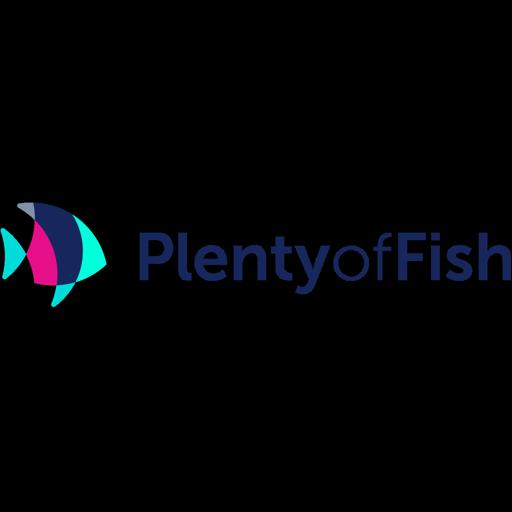POF: (0, 202, 512, 309)
